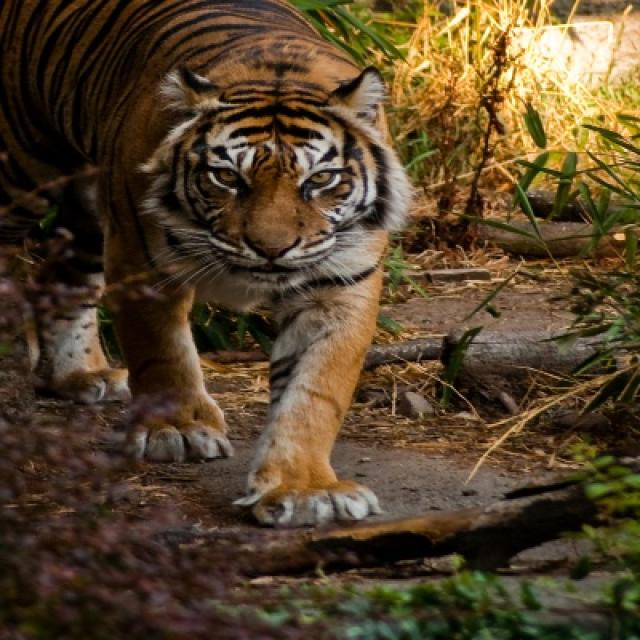Tiger: (0, 0, 417, 525)
